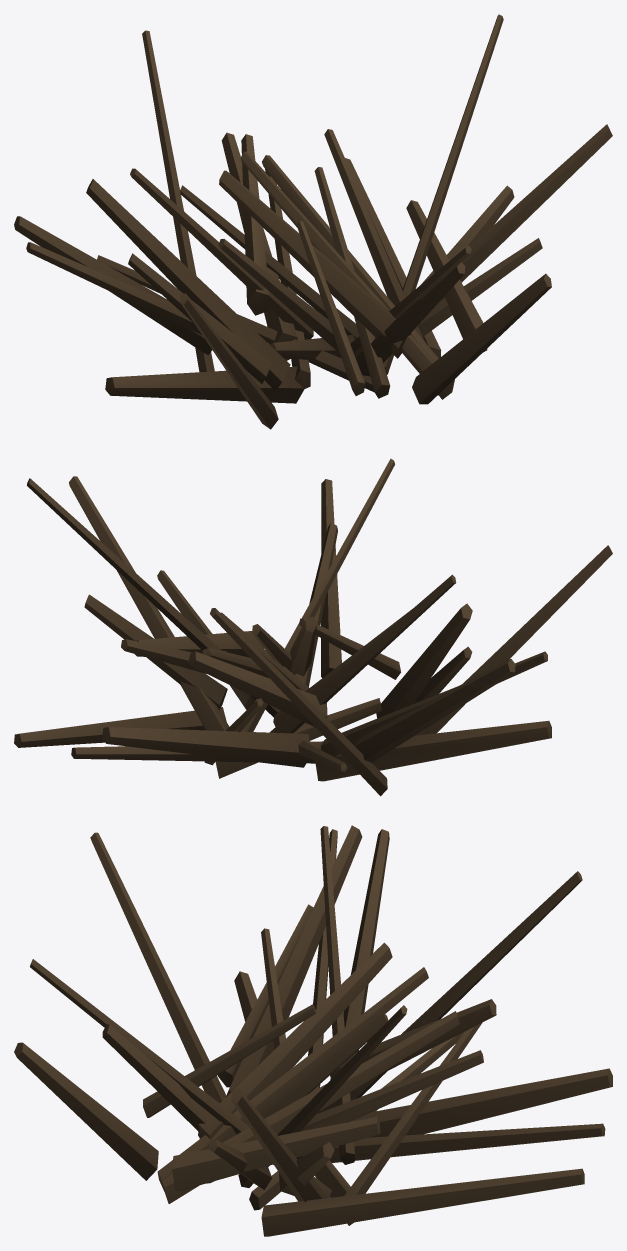
The model's file is struct_brush_pile.glb.
3 renders of one model, top to bottom at view 1: azimuth 30°, elevation 25°; view 2: azimuth 150°, elevation 25°; view 3: azimuth 270°, elevation 25°, orthographic. The views are drawn at different scales.
Visible parts, largest first — view 1: branches; view 2: branches; view 3: branches.
Boxes of the visible parts, bbox=[...] form: branches: bbox=[14, 14, 612, 429]; branches: bbox=[14, 458, 612, 796]; branches: bbox=[14, 825, 612, 1236].
Size of the model in its own units: 2.19 by 1.12 by 1.95.
